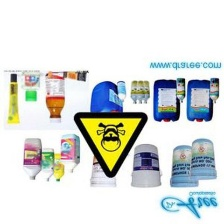insecticide: (125, 140, 162, 192), (164, 142, 199, 190), (86, 146, 119, 193), (89, 79, 125, 120), (184, 77, 215, 124), (152, 74, 180, 124), (187, 137, 217, 183), (42, 71, 65, 125), (20, 136, 43, 181), (57, 132, 81, 175), (4, 71, 20, 129), (35, 147, 55, 185), (20, 70, 41, 103), (47, 67, 88, 82), (48, 149, 66, 183), (174, 75, 186, 103), (209, 76, 219, 105), (134, 78, 145, 104), (128, 79, 139, 104), (115, 80, 126, 102), (141, 78, 150, 104)
